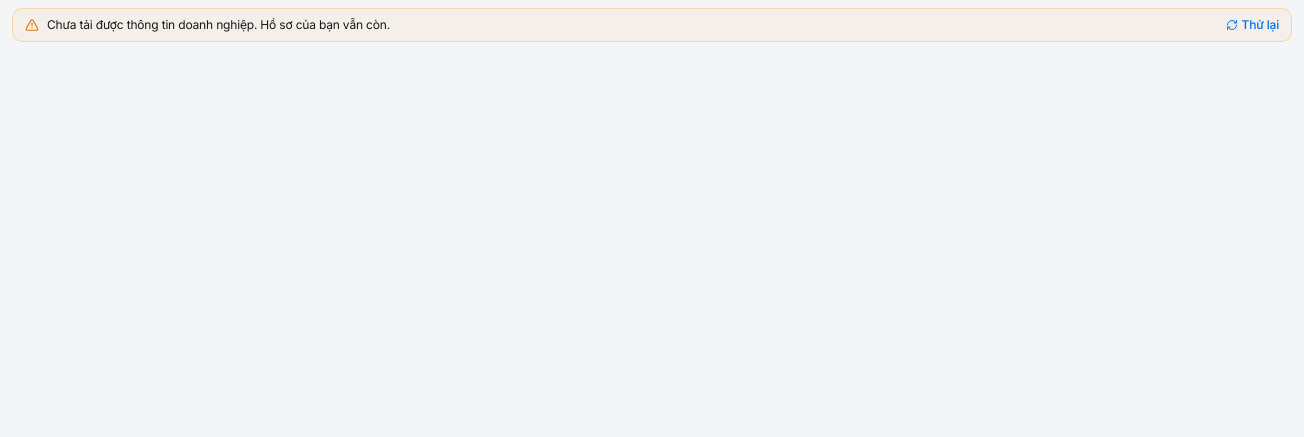
Test: Cài đặt → Thông tin doanh nghiệp: đọc lỗi › lỗi → nói chưa tải được, KHÔNG khuyên "đăng xuất để tạo hồ sơ"; thử lại thì hiện hồ sơ
Expected: the message shows "Chưa tải được thông tin doanh nghiệp", [47,17,390,32]
Step 1. Click the button "Thử lại" → x=1252, y=25, box [1226,17,1279,33]
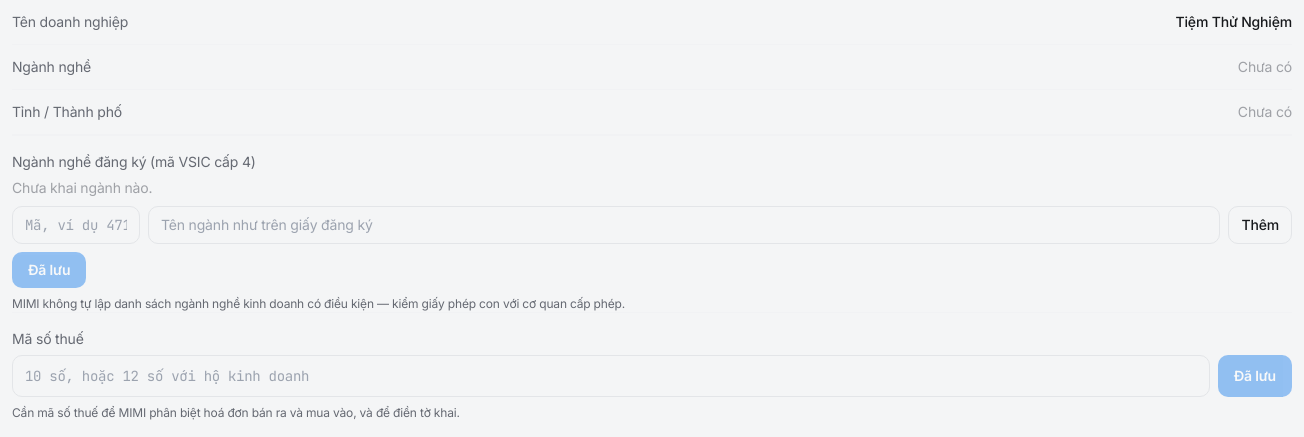
Expected: the text "Tiệm Thử Nghiệm" is shown, [1176,12,1292,32]
